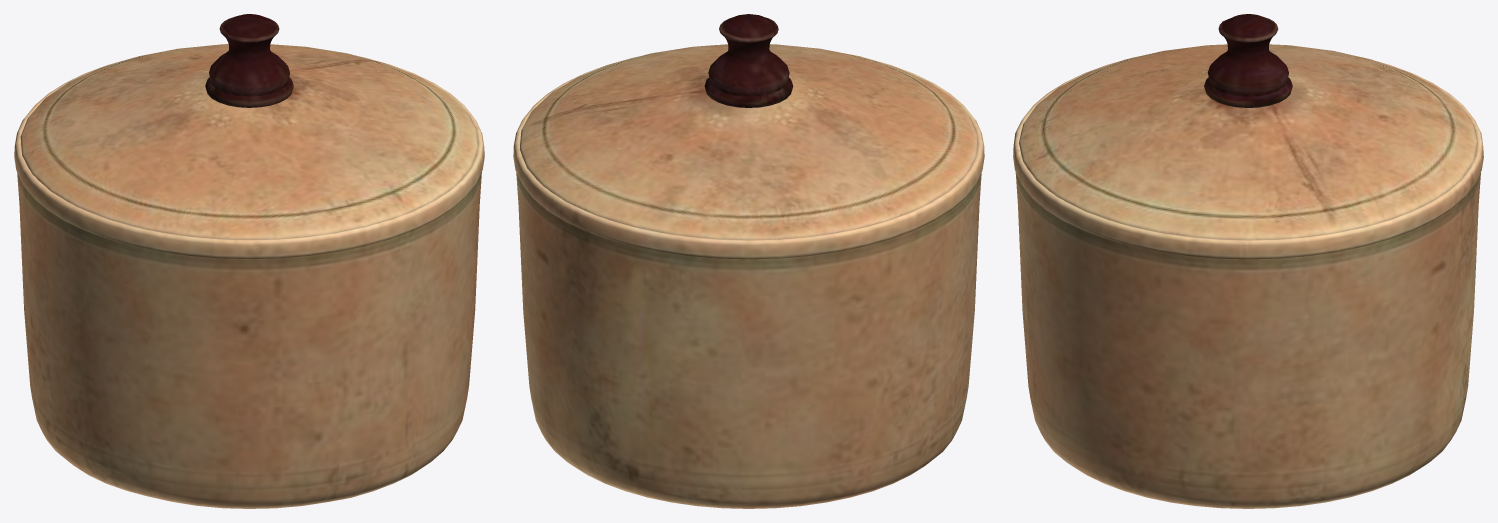
Rendered from brass_pot_01.glb.
The picture shows the model from 3 angles, left to right: view 1: azimuth 30°, elevation 25°; view 2: azimuth 150°, elevation 25°; view 3: azimuth 270°, elevation 25°; orthographic projection.
Visible parts, largest first — view 1: brass_pot_01; view 2: brass_pot_01; view 3: brass_pot_01.
Boxes of the visible parts, x1=… form: brass_pot_01: x1=14, y1=14, x2=484, y2=508; brass_pot_01: x1=513, y1=14, x2=984, y2=508; brass_pot_01: x1=1013, y1=14, x2=1483, y2=508.
Bounding box in the file's own units: 0.3019 × 0.2909 × 0.3017.
1 material, 1 textured.
